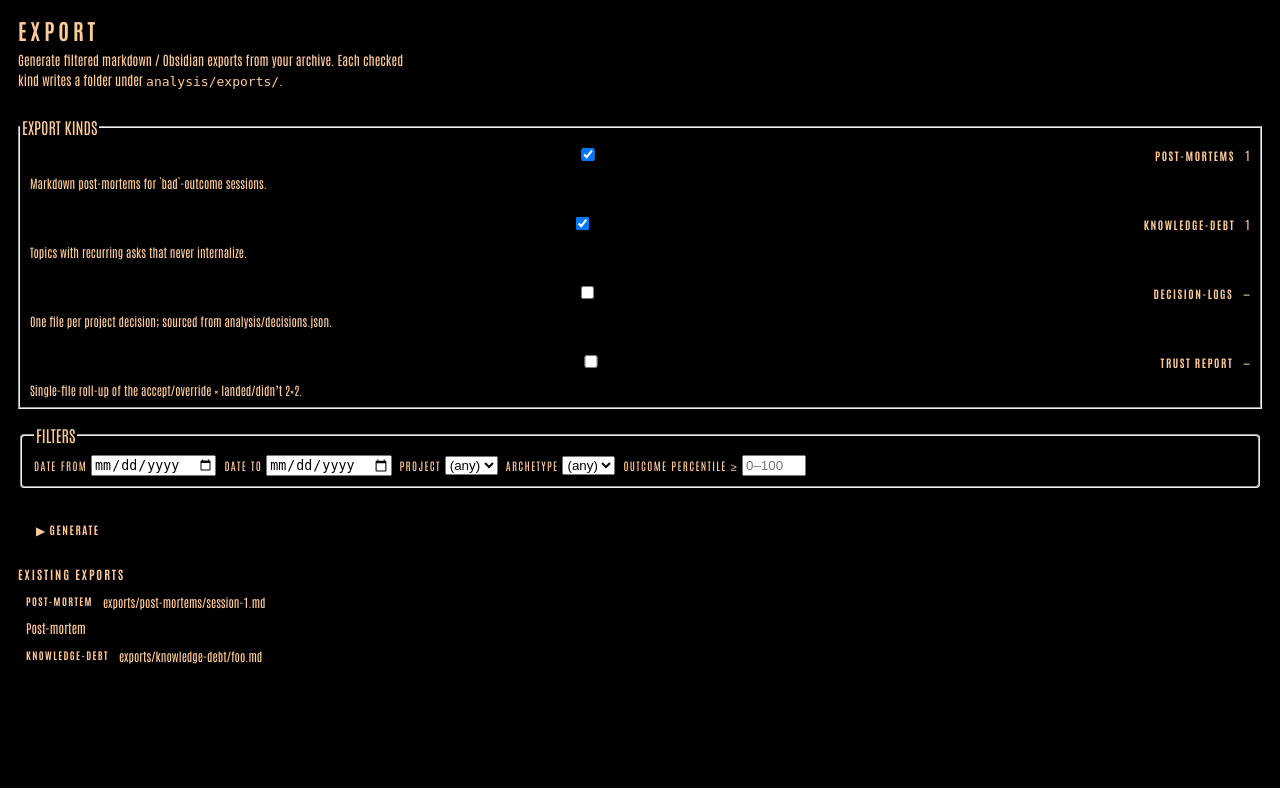
it: ExportMode › shows an error surface when generation fails
Click the button with test id "generate-btn": (68, 530) x1=18 y1=514 x2=118 y2=546
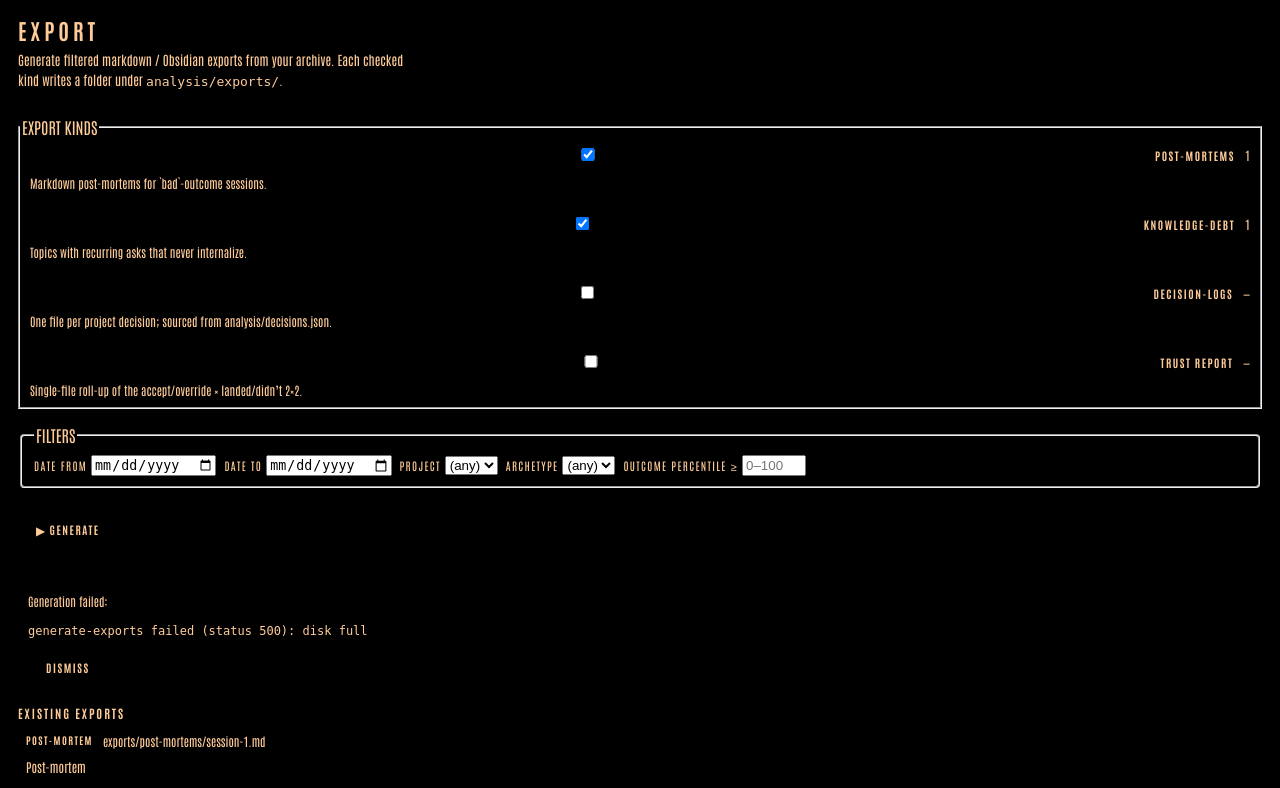
expect the message shows "Generation failed": met, box x1=28 y1=593 x2=107 y2=609
